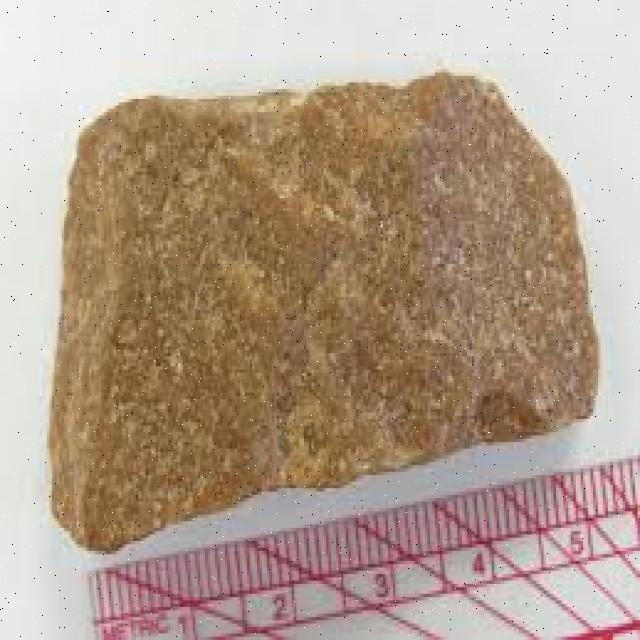Metamorphic: (5, 99, 608, 455)
